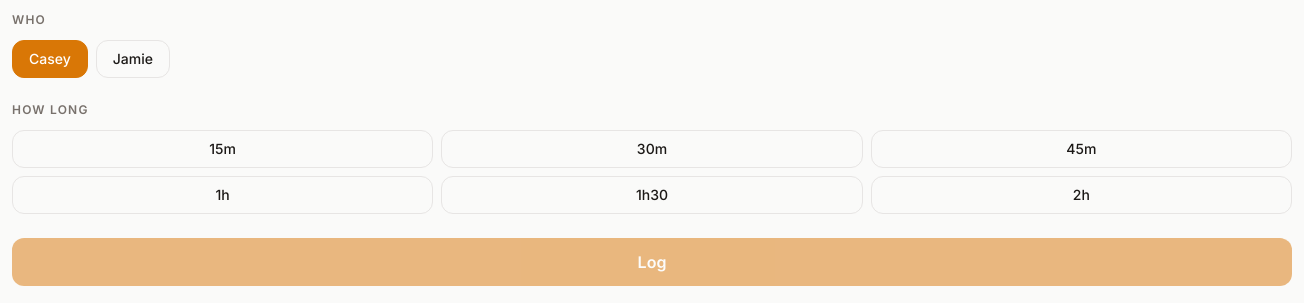
Test: CustomLogForm › submit button enables after selecting a duration
This screenshot has width=1304, height=303.
Click the button "30m". click: point(652, 149)
box: [441,130,863,168]
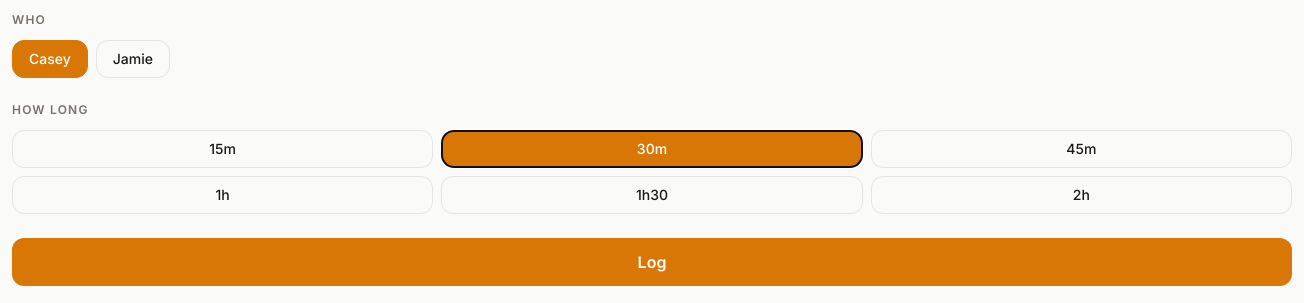
Check: the button "Log" is enabled, box [12,238,1292,286]
